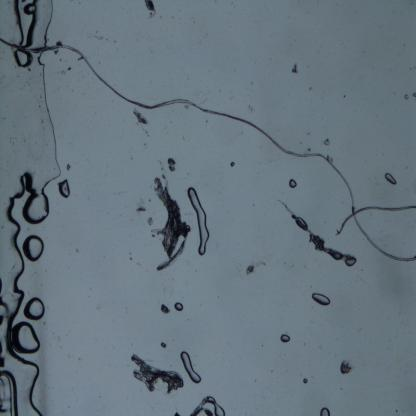Air bubble: (0, 1, 58, 415), (186, 186, 213, 256), (10, 322, 42, 354), (180, 350, 204, 386), (22, 234, 44, 264), (23, 297, 47, 319), (311, 290, 332, 306), (57, 178, 72, 200), (132, 109, 149, 126), (384, 173, 399, 187), (174, 301, 184, 312), (279, 335, 291, 344), (289, 179, 299, 189), (320, 408, 330, 414), (303, 378, 309, 386)
Background material: (151, 174, 182, 253), (188, 392, 229, 416), (143, 0, 158, 21), (340, 358, 355, 376), (245, 262, 256, 277), (159, 305, 171, 316), (167, 158, 176, 172), (134, 204, 147, 213), (291, 63, 300, 75), (146, 216, 155, 226), (322, 138, 332, 146), (228, 160, 236, 168), (159, 341, 167, 349), (66, 159, 71, 170), (405, 92, 410, 100), (343, 93, 347, 100), (262, 344, 264, 347)
Cellulose filter fibre: (275, 198, 358, 266), (124, 352, 186, 392), (149, 223, 190, 274)
Microfibre: (0, 38, 416, 264), (335, 203, 416, 237)
